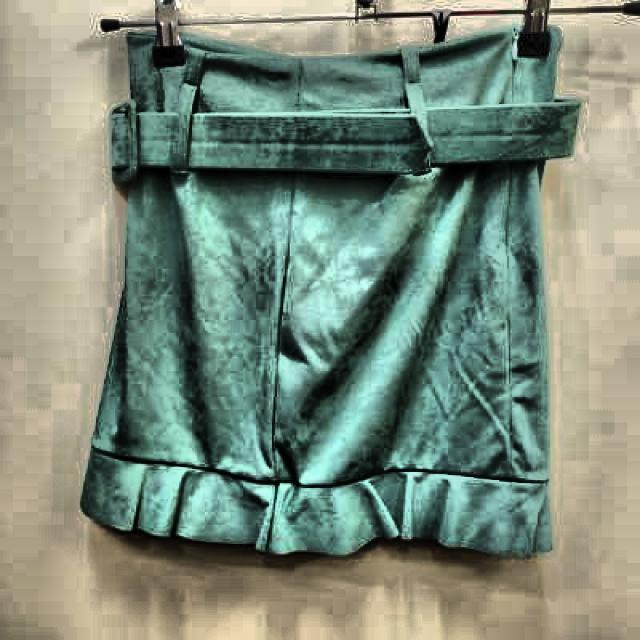clothes: (79, 18, 585, 565)
